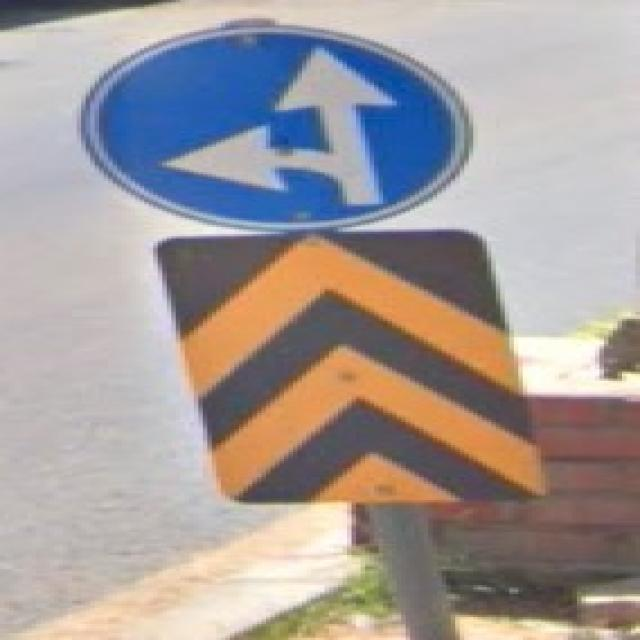Straight or Left: (82, 25, 474, 229)
